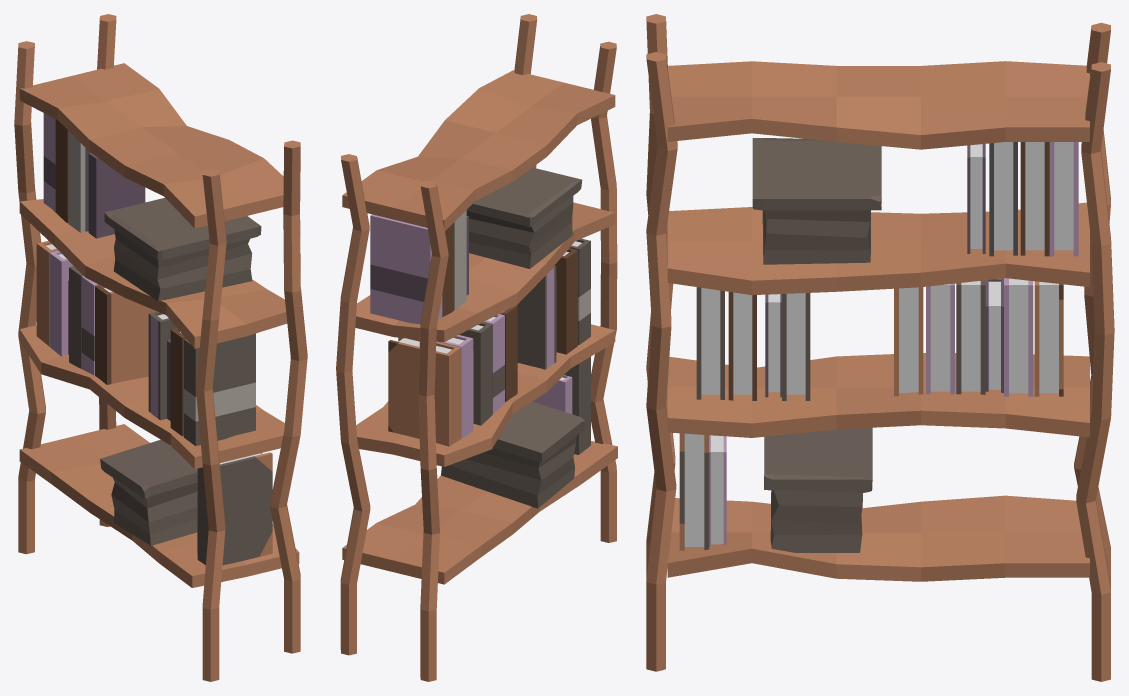
The model's file is bookshelf.fbx.
3 views of the same model, side by side, from view 1: azimuth 30°, elevation 25°; view 2: azimuth 150°, elevation 25°; view 3: azimuth 270°, elevation 25° (orthographic). The views are drawn at different scales.
Parts seen in each view (by area): view 1: Shelf; view 2: Shelf; view 3: Shelf.
Part boxes in pixels (bbox=[...]): Shelf: bbox=[14, 14, 307, 681]; Shelf: bbox=[336, 14, 617, 681]; Shelf: bbox=[646, 14, 1114, 681].
Size of the model in its own units: 0.5936 by 2.38 by 1.61.
